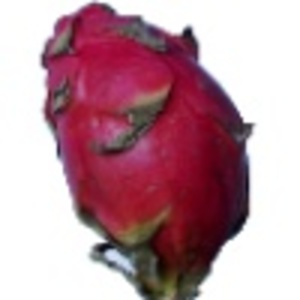pitaia: (40, 1, 254, 300)
